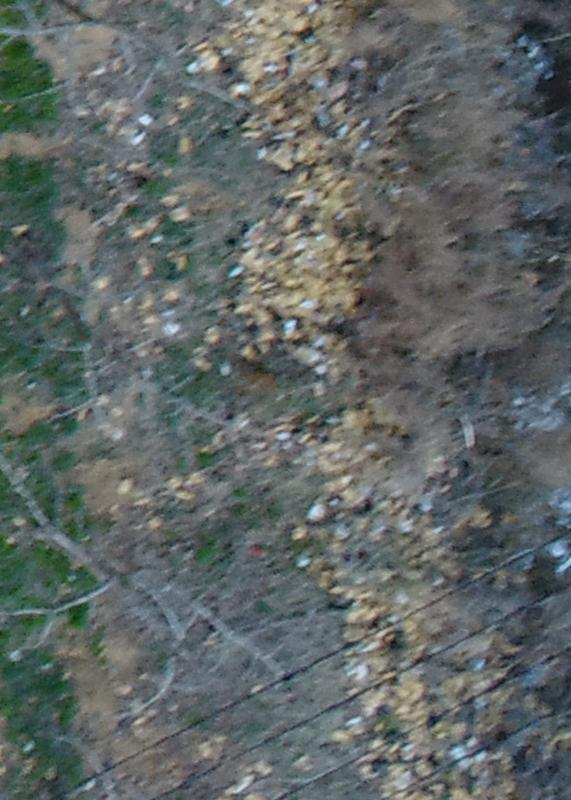apple: (10, 382, 293, 726), (10, 10, 269, 144)
